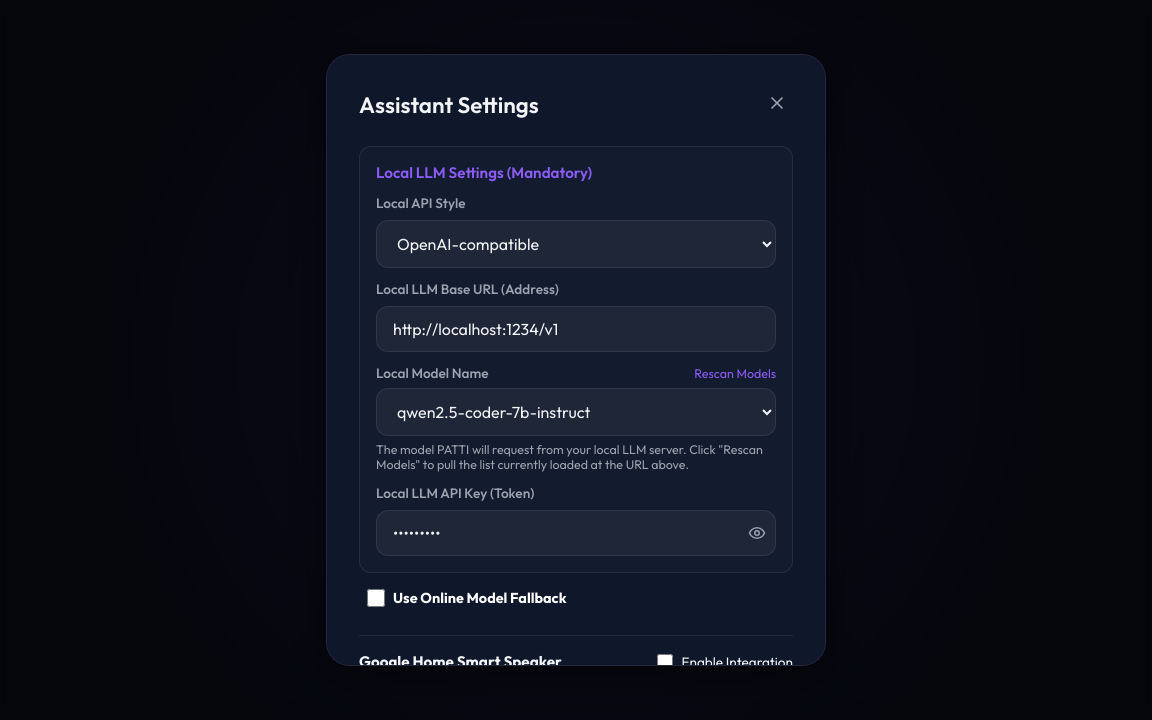
Test: SettingsModal Component Tests › toggling Use Online Model Fallback checkbox shows/hides online settings
Expected: the text "Online Model Settings" is not shown
Checkbox is clicked
Click the checkbox labelled "Use Online Model Fallback" at (376, 598), box [367,589,385,607]
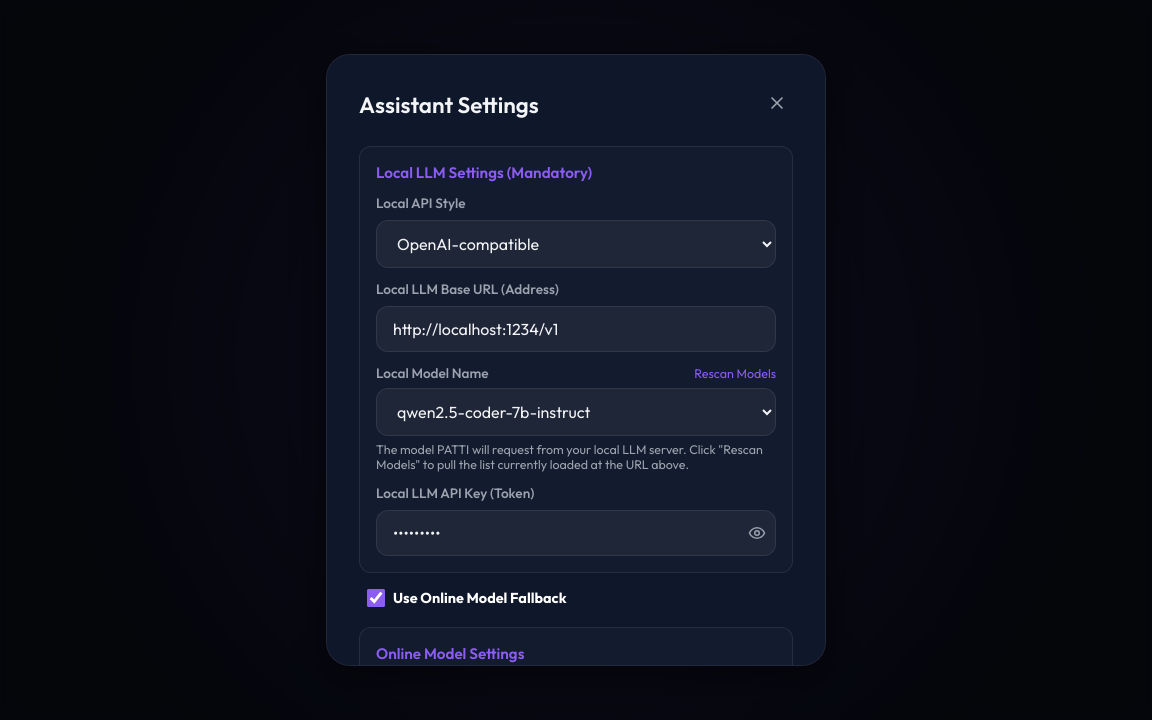
Expected: the heading "Online Model Settings" is shown, [376,644,524,663]
